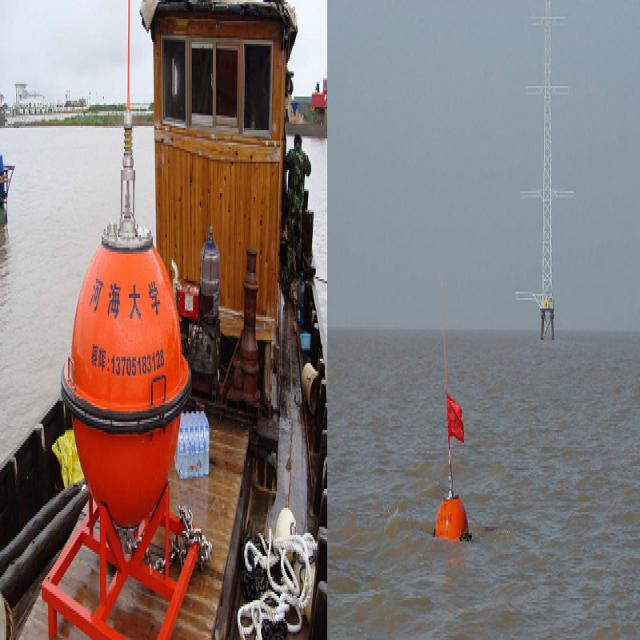buoy: (63, 111, 186, 533), (428, 280, 476, 558)
